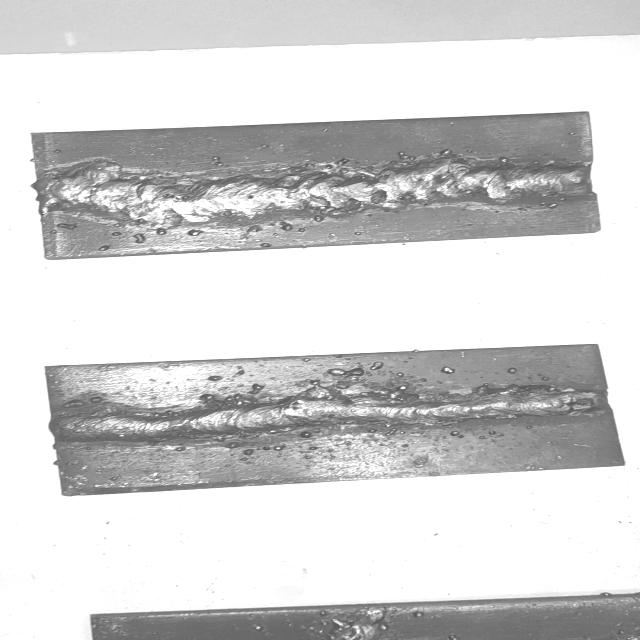Bad Weld: (45, 158, 590, 228), (59, 378, 611, 440)
Defect: (34, 153, 590, 227), (292, 364, 421, 408), (300, 614, 384, 640), (560, 378, 604, 422), (180, 389, 259, 413)
